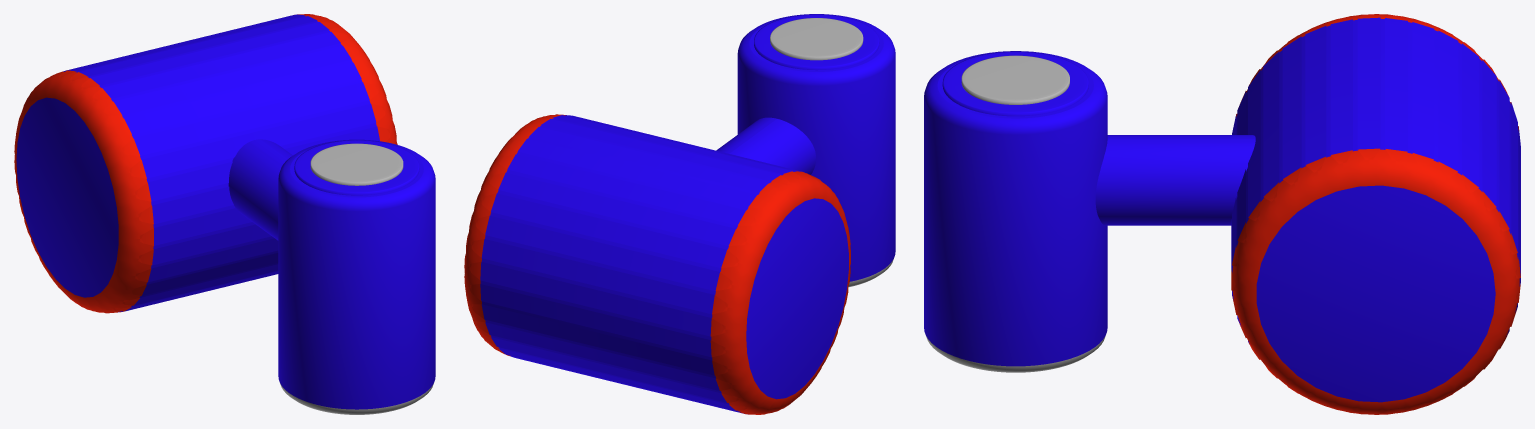
The model's file is Obstacle14.fbx.
The picture shows the model from 3 angles, left to right: view 1: azimuth 30°, elevation 25°; view 2: azimuth 150°, elevation 25°; view 3: azimuth 270°, elevation 25°; orthographic projection. The views are drawn at different scales.
Visible parts, largest first — view 1: Cylinder; view 2: Cylinder; view 3: Cylinder.
Boxes of the visible parts, x1=… form: Cylinder: x1=14, y1=14, x2=435, y2=414; Cylinder: x1=464, y1=14, x2=895, y2=414; Cylinder: x1=924, y1=14, x2=1520, y2=414.
Size of the model in its own units: 268 by 208 by 425.
